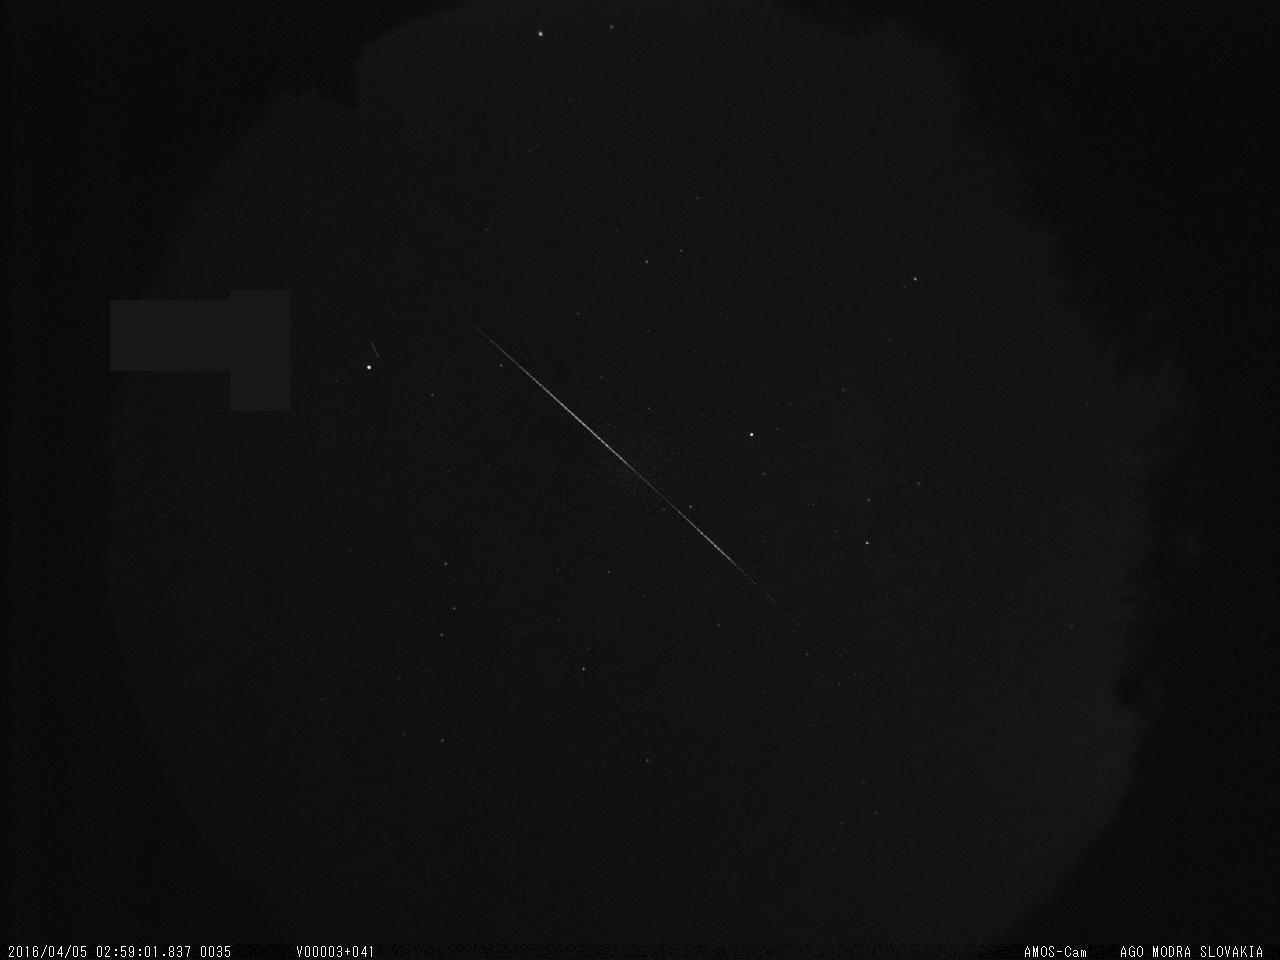meteor: (432, 287, 824, 650)
